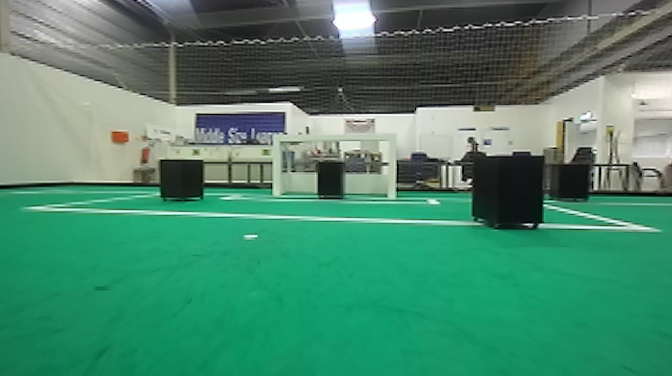goalpost: (380, 123, 399, 200), (269, 138, 283, 197)
